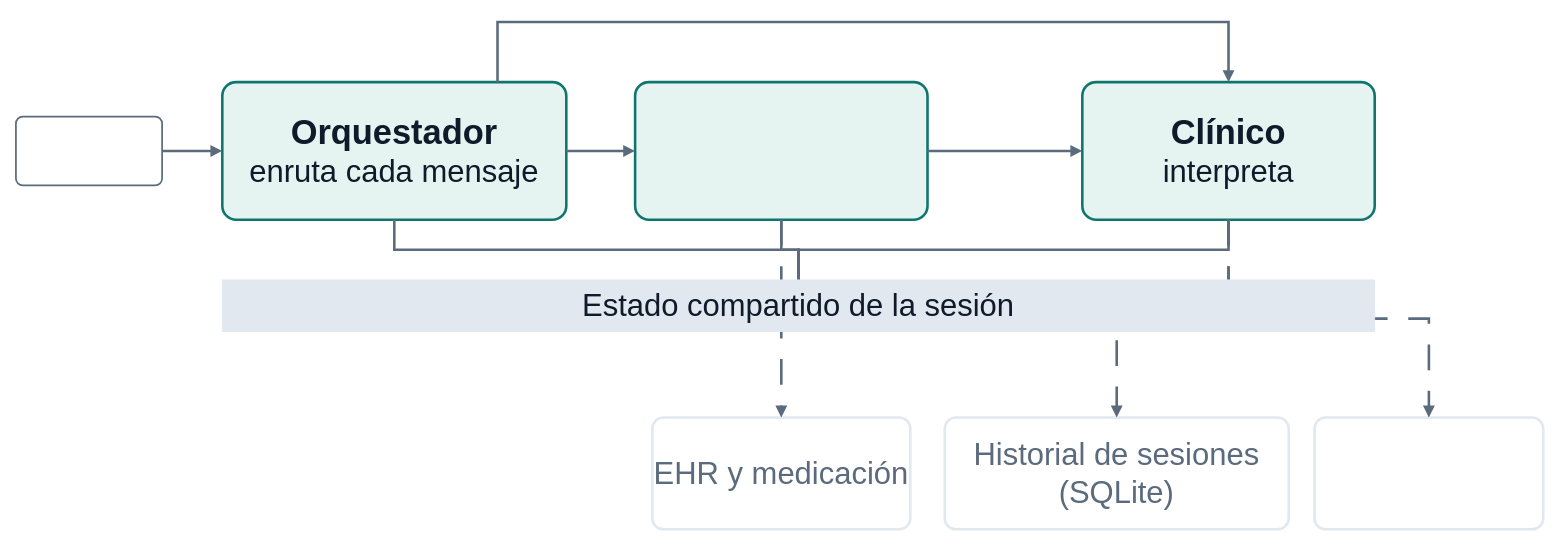
Some shapes in this 1559 by 545 pixel diagram are drawn without their labels. The shapes that lost their labels are listed below. From the top down, each one's centre as x and y in pixels, then its label:
the point at 89,150: Médico
the point at 780,150: Monitor calcula
the point at 1428,473: Guías clínicas (ChromaDB)
